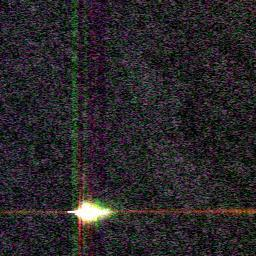Ship: (62, 200, 116, 222)
